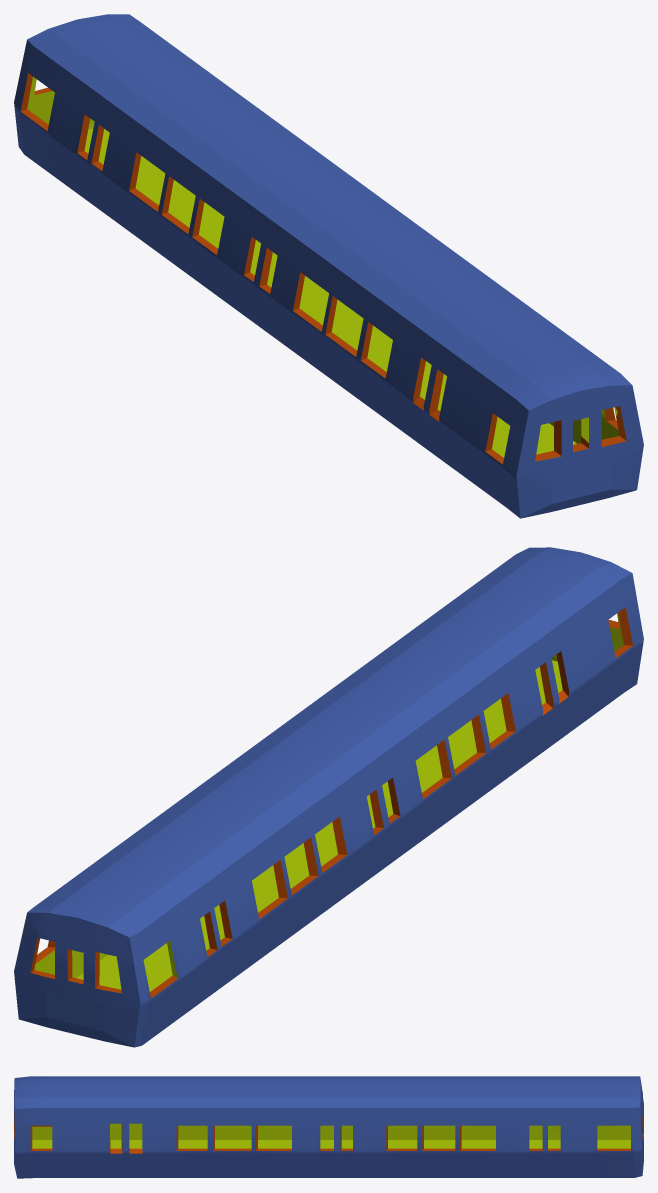
The model's file is TrainBody.fbx.
3 renders of one model, top to bottom at view 1: azimuth 30°, elevation 25°; view 2: azimuth 150°, elevation 25°; view 3: azimuth 270°, elevation 25°, orthographic. The views are drawn at different scales.
Visible parts, largest first — view 1: MetroTrain:metroCar1; view 2: MetroTrain:metroCar1; view 3: MetroTrain:metroCar1.
Boxes of the visible parts, x1,y1,x2,y2 form: MetroTrain:metroCar1: (14,14,643,518); MetroTrain:metroCar1: (14,547,643,1047); MetroTrain:metroCar1: (14,1076,643,1178).
Bounding box in the file's own units: 372 × 326 × 2501.
